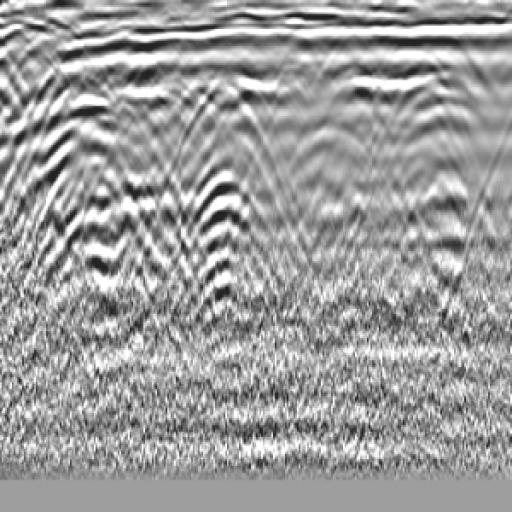metalic: (313, 53, 450, 131)
